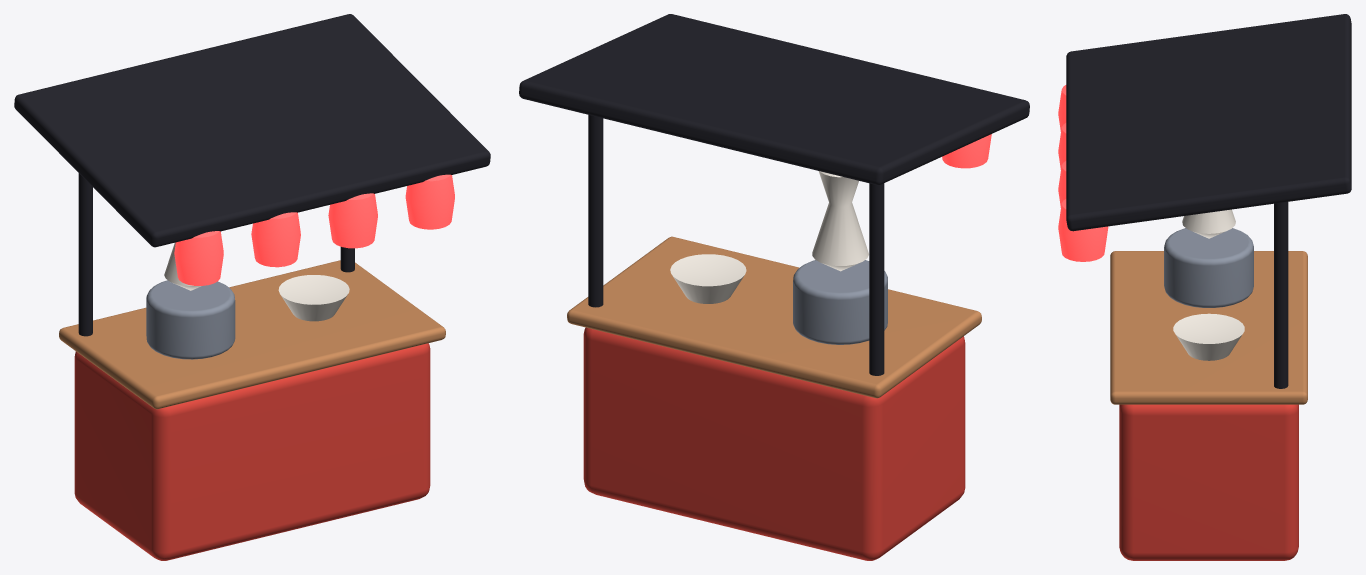
Rendered from noodle_stall.glb.
3 renders of one model, left to right at view 1: azimuth 30°, elevation 25°; view 2: azimuth 150°, elevation 25°; view 3: azimuth 270°, elevation 25°, orthographic. The views are drawn at different scales.
Parts seen in each view (by area): view 1: noodle_stall; view 2: noodle_stall; view 3: noodle_stall.
Part boxes in pixels (x1,y1,x2,y2): noodle_stall: (14, 14, 490, 560); noodle_stall: (519, 14, 1029, 560); noodle_stall: (1058, 14, 1351, 560).
Bounding box in the file's own units: 2.2 × 2.46 × 1.63.
1 material, 1 textured.
